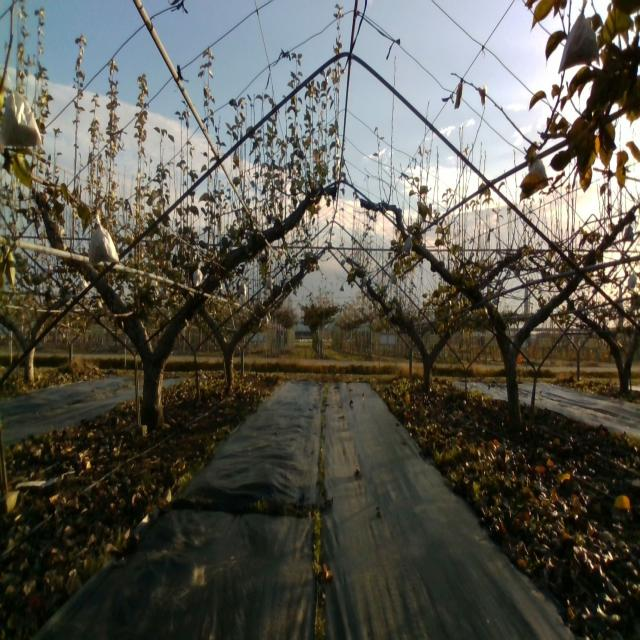pearbags: (557, 0, 601, 73), (0, 87, 44, 149), (87, 213, 119, 269), (528, 158, 549, 188), (401, 235, 414, 256)
